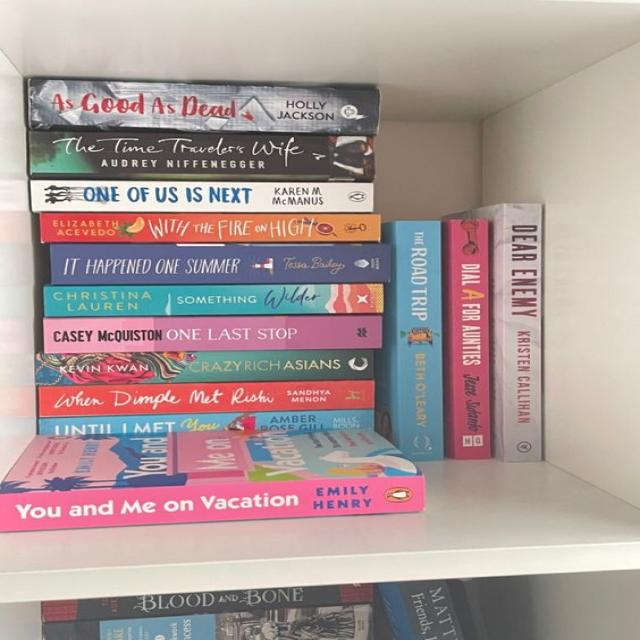book: (0, 474, 422, 533), (28, 78, 379, 134), (468, 203, 541, 461), (30, 128, 373, 182), (384, 221, 444, 461), (49, 243, 389, 284), (44, 315, 381, 353), (37, 380, 373, 417), (36, 351, 373, 386), (44, 283, 382, 317), (31, 180, 372, 213), (443, 218, 488, 459), (40, 214, 380, 242), (40, 418, 376, 435)
